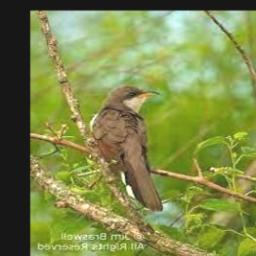Cuckoo: (89, 85, 164, 211)
